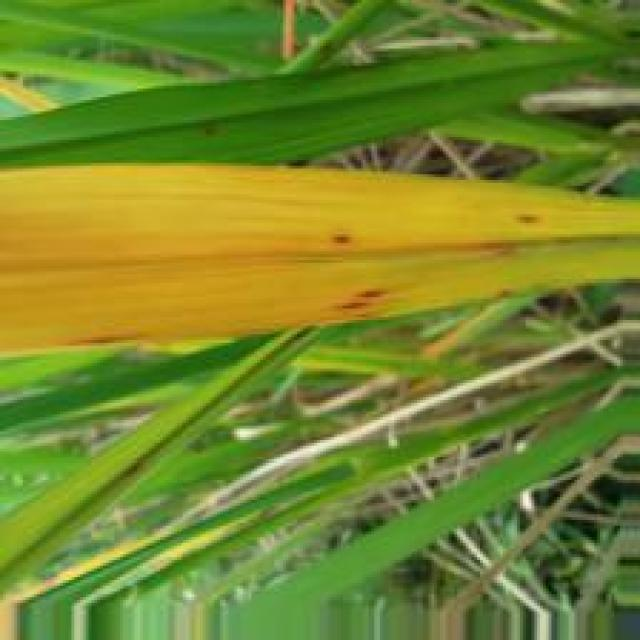Narrow_Brown_Leaf_Spot: (0, 165, 640, 358)
